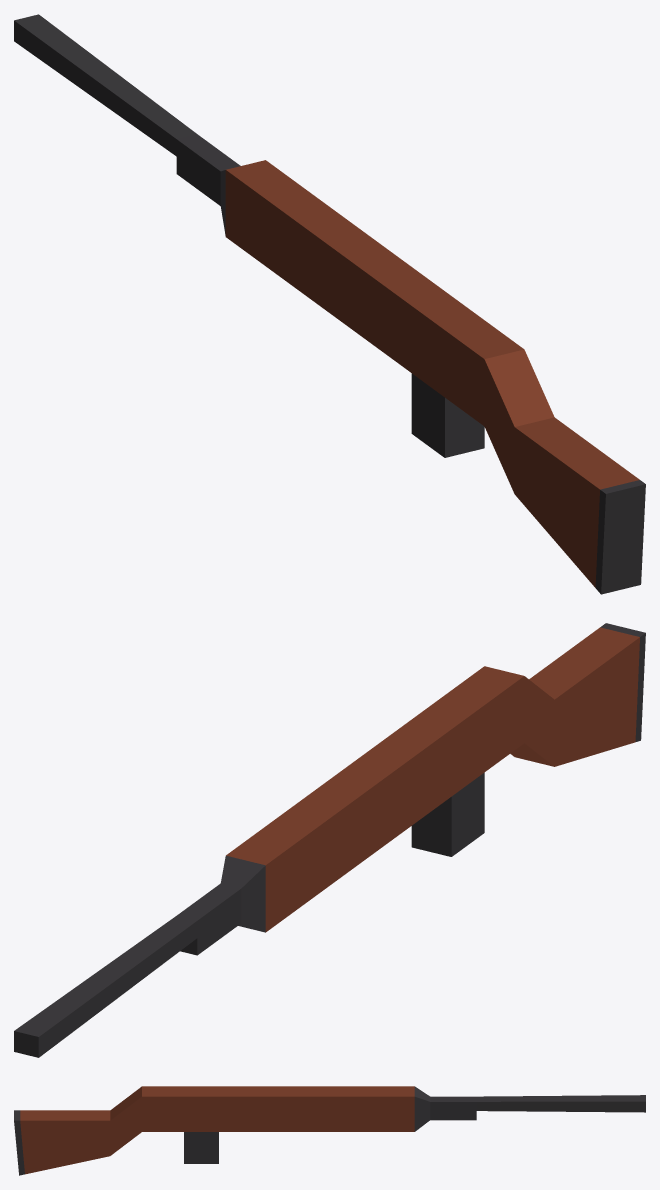
The model's file is rifle.glb.
The picture shows the model from 3 angles, top to bottom: view 1: azimuth 30°, elevation 25°; view 2: azimuth 150°, elevation 25°; view 3: azimuth 270°, elevation 25°; orthographic projection. The views are drawn at different scales.
Parts seen in each view (by area): view 1: Rifle; view 2: Rifle; view 3: Rifle.
Part boxes in pixels (x1,y1,x2,y2): Rifle: [14, 14, 645, 594]; Rifle: [14, 623, 645, 1057]; Rifle: [14, 1086, 645, 1175].
Size of the model in its own units: 0.1512 by 0.5422 by 3.93.
